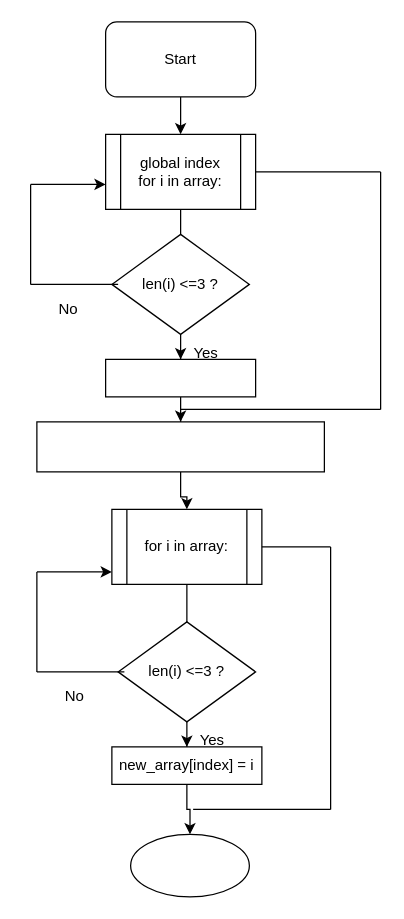
Image size: 404x919. Some labels were removed from this diagram. The shapes that lost their labels are listed below. From the top down, each one's box as (x1, y1, x2, y2) in pixels, then its label:
(104, 358, 256, 397): index += 1
(36, 421, 324, 472): new_array = [0 for i in range(index) index = 0
(129, 833, 249, 897): End
